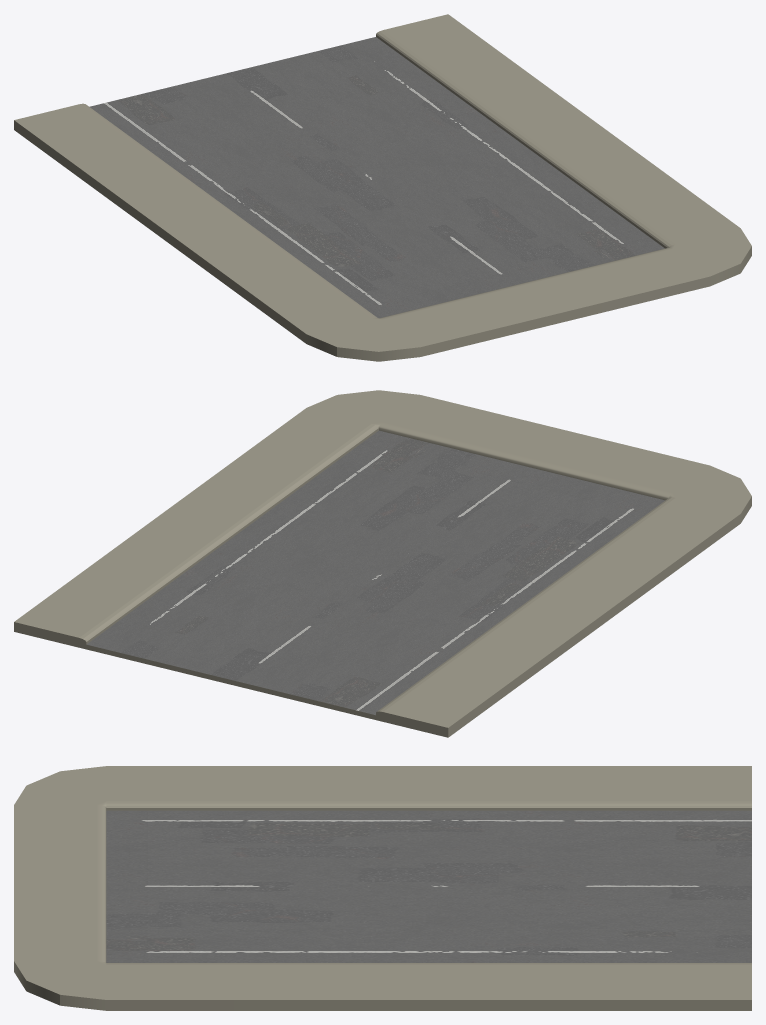
The model's file is Road_Dead.fbx.
3 renders of one model, top to bottom at view 1: azimuth 30°, elevation 25°; view 2: azimuth 150°, elevation 25°; view 3: azimuth 270°, elevation 25°, orthographic. The views are drawn at different scales.
Parts seen in each view (by area): view 1: Road; view 2: Road; view 3: Road.
Part boxes in pixels (left/top/right/bottom): Road: left=14, top=14, right=751, bottom=361; Road: left=14, top=390, right=751, bottom=737; Road: left=14, top=766, right=751, bottom=1010.
Bounding box in the file's own units: 18 × 0.3911 × 24.
